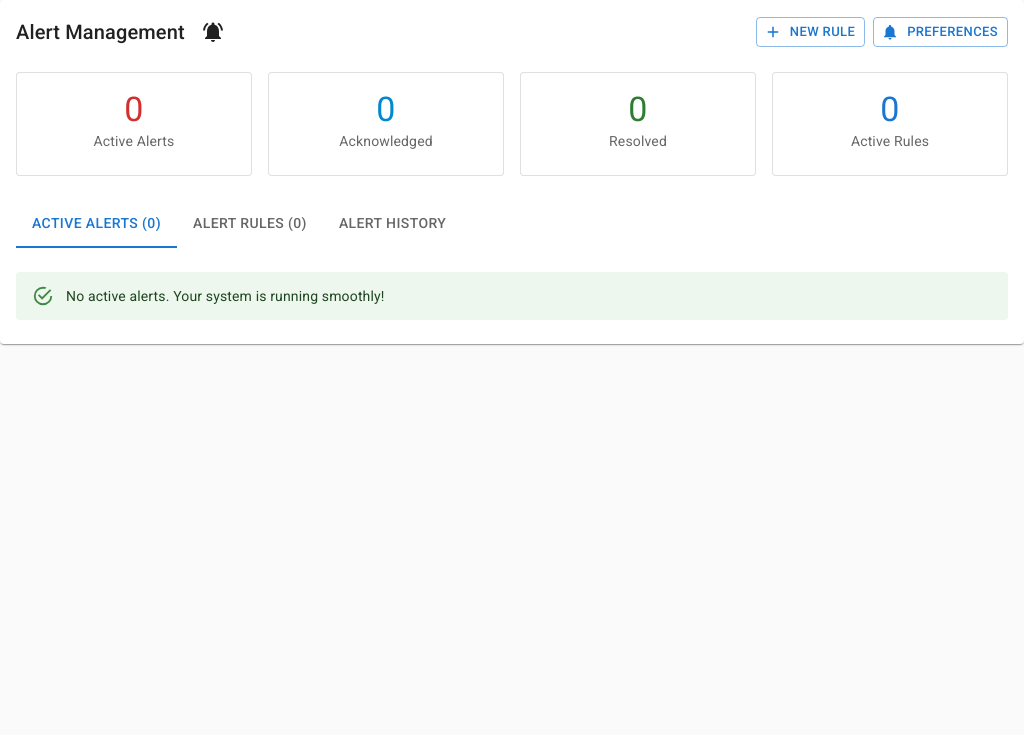
Test: AlertManagementSystem › opens rule creation dialog
The image size is (1024, 735).
Click the button "New Rule": (810,32) [756,17,865,47]
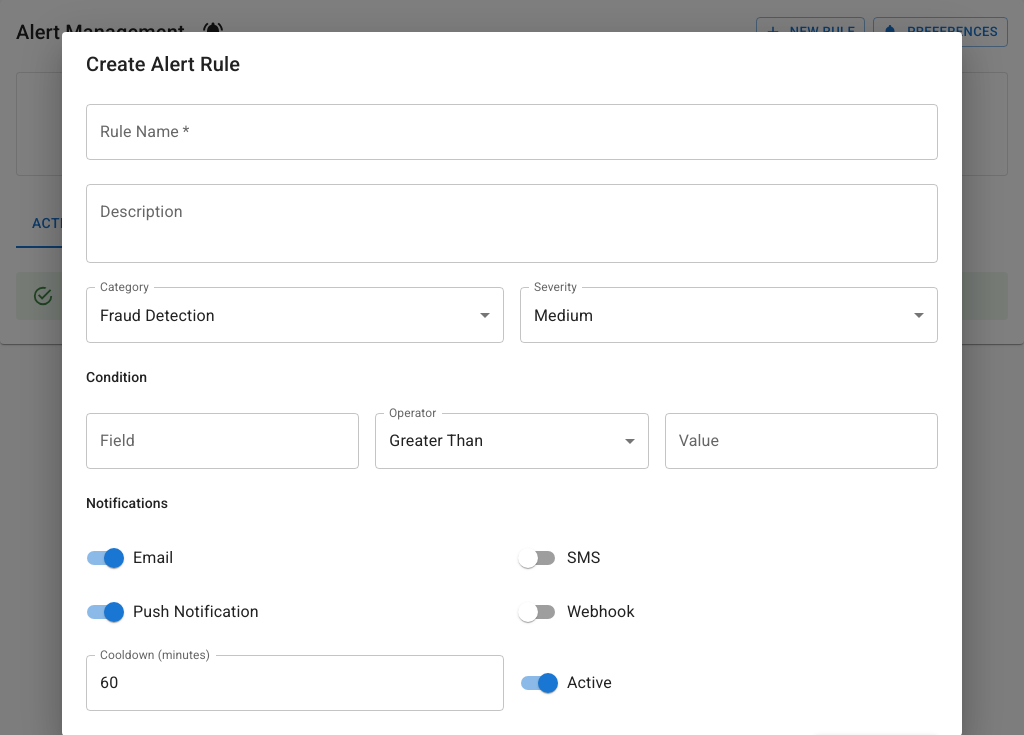
Expected: the heading "Create Alert Rule" is shown, [86,52,240,76]
